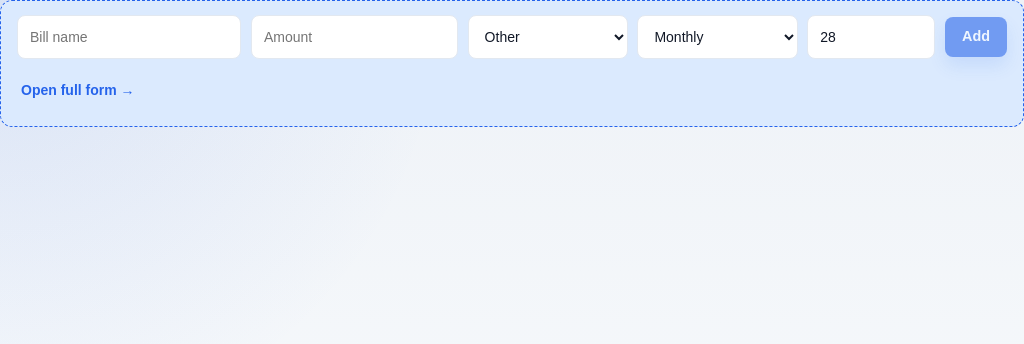
Test case: QuickAddBar › with showScheduleFields › shows a due-day input for monthly recurrence and a due-date input otherwise
Expected: the number field named "Due day" is shown, [807, 15, 935, 59]
Step 1. Select "Weekly" in the dropdown named "recurrence" → (718, 37), box [637, 15, 798, 59]
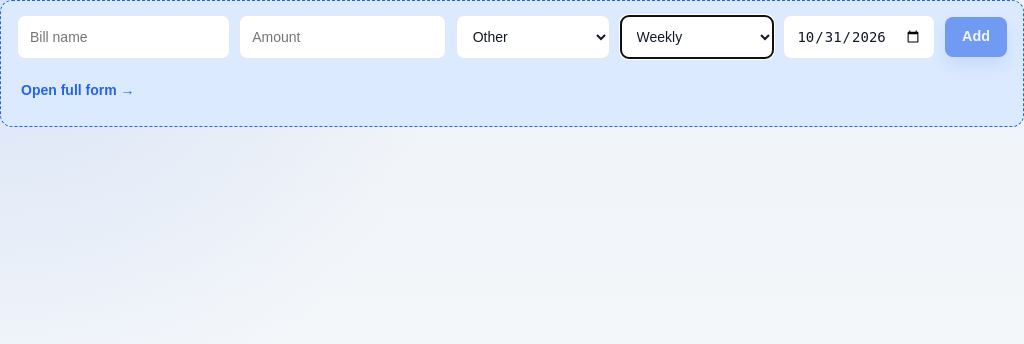
Expected: the date field named "next due date" is shown, [783, 15, 935, 59]
